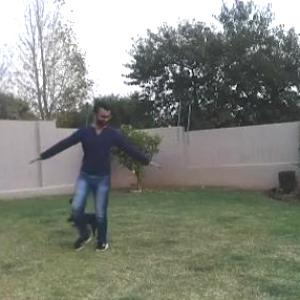land: (60, 103, 170, 233)
